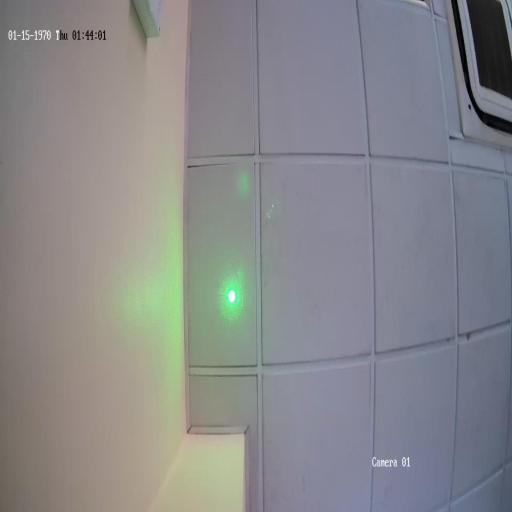laser: (226, 286, 237, 307)
